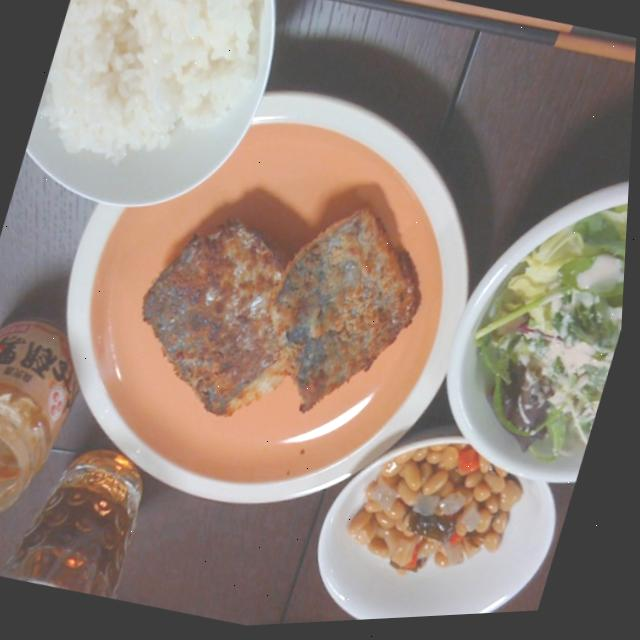米饭主食: (12, 0, 294, 243)
蔬菜料理: (417, 140, 633, 504)
